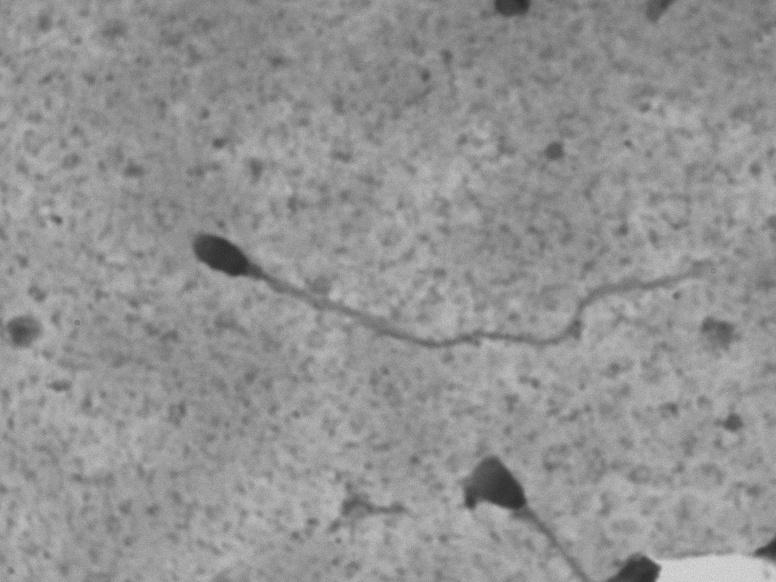Abnormal: (437, 438, 632, 572)
Normal: (172, 188, 726, 365)
